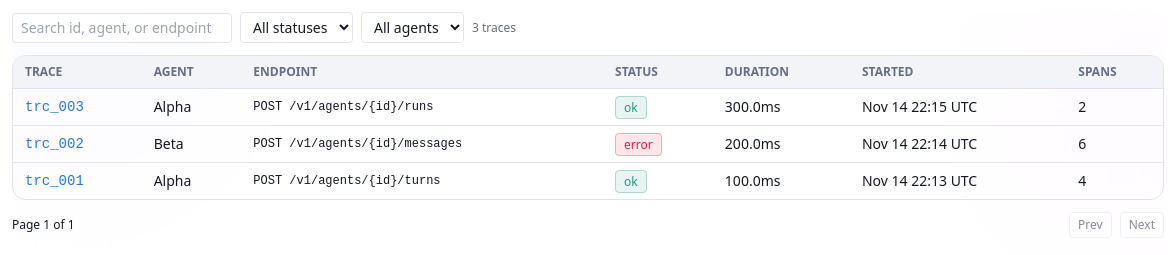
Scenario: TraceList › shows empty state when no rows match
Type "zzznomatchzzz" into the field with test id "trace-search" at (122, 28), box [12, 12, 232, 42]
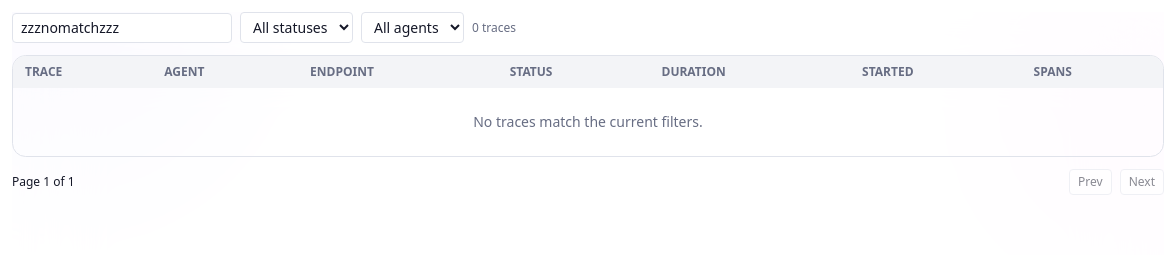
Expected: the row with test id "trace-empty" is shown, [13, 88, 1163, 156]
